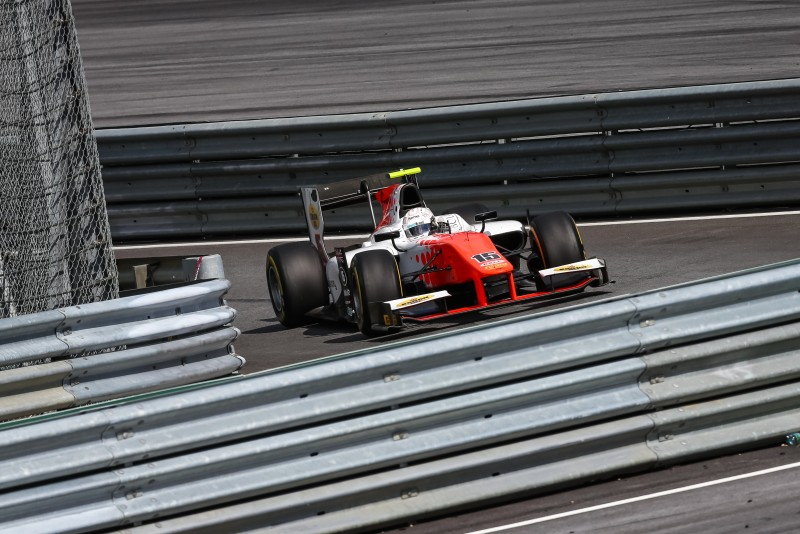race car: (263, 163, 611, 343)
